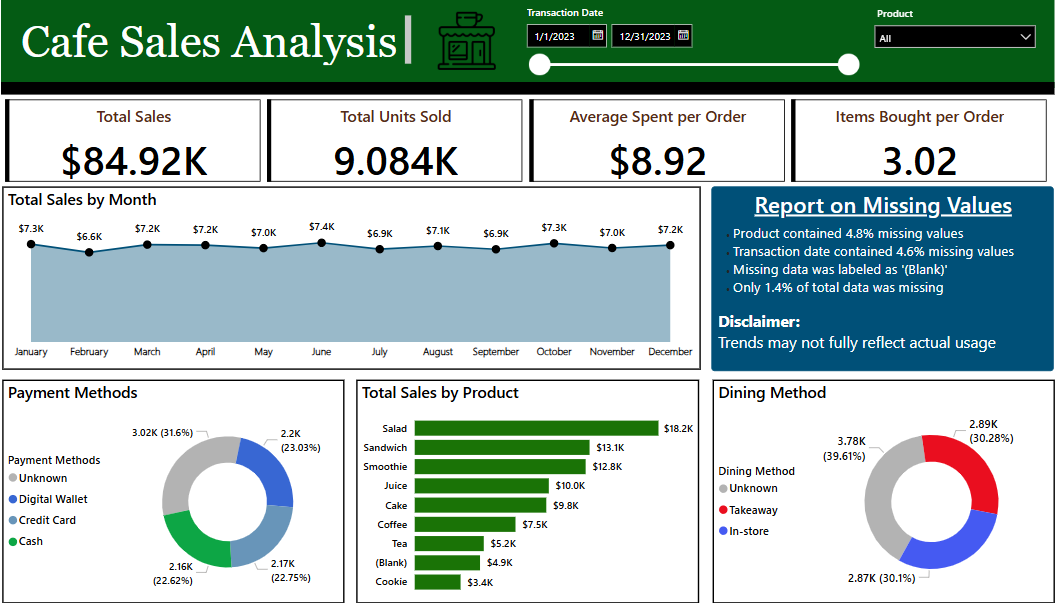

The page's visual inventory and layout, read from the dashboard file:
{"tool":"powerbi","page":{"name":"Page 1","canvas":[1280,720],"ordinal":0},"visuals":[{"type":"shape","box":[14.3,2.1,1254.3,105.7],"z":0},{"type":"textbox","box":[24.2,15.4,483.2,69.2],"z":1000},{"type":"cardVisual","fields":{"Data":["Sum(Sheet 1.total_spent)","CountNonNull(Sheet 1.Item)","Avg(Sheet 1.total_spent)","Avg(Sheet 1.Quantity)"]},"box":[14.3,115.3,1253.1,108.7],"z":2000},{"type":"actionButton","box":[0,0,100,40],"z":3000},{"type":"donutChart","title":"Payment Methods","fields":{"Y":["CountNonNull(Sheet 1.payment_method)"],"Category":["Sheet 1.payment_method"]},"box":[15.4,453.6,407.4,266.9],"z":4000},{"type":"clusteredBarChart","title":"Total Sales by Product","fields":{"Y":["Sum(Sheet 1.total_spent)"],"Category":["Sheet 1.Item"]},"box":[437.1,453.6,408.5,266.9],"z":5000},{"type":"donutChart","title":"Dining Method","fields":{"Category":["Sheet 1.Location"],"Y":["CountNonNull(Sheet 1.Location)"]},"box":[861,453.6,407.4,266.9],"z":6000},{"type":"areaChart","title":"Total Sales by Month","fields":{"Category":["Sheet 1.transaction_date.Variation.Date Hierarchy.Month"],"Y":["Sum(Sheet 1.total_spent)"]},"box":[15.4,224,831.4,218.5],"z":7000},{"type":"textbox","title":"Report on Missing Values","box":[859.9,224,407.4,219.6],"z":8000},{"type":"slicer","fields":{"Values":["Sheet 1.transaction_date"]},"box":[627.1,2.2,417.3,105.4],"z":10000},{"type":"image","box":[509.6,11,117.5,79.1],"z":11000},{"type":"shape","box":[14.3,99.9,1254.2,15.4],"z":12000},{"type":"slicer","fields":{"Values":["Sheet 1.Item"]},"box":[1044.4,4.4,212,95.5],"z":12001}]}

Visuals, with their boxes in screenshot pixels (x1, y1, x2, y2), scaled from the page's 1280x720 canvas onto the 1056x603 screenshot:
shape: left=12, top=2, right=1047, bottom=90
textbox: left=20, top=13, right=419, bottom=71
cardVisual - Sum(Sheet 1.total_spent) x CountNonNull(Sheet 1.Item): left=12, top=97, right=1046, bottom=188
actionButton: left=0, top=0, right=82, bottom=34
"Payment Methods" donutChart: left=13, top=380, right=349, bottom=602
"Total Sales by Product" clusteredBarChart: left=361, top=380, right=698, bottom=602
"Dining Method" donutChart: left=710, top=380, right=1046, bottom=602
"Total Sales by Month" areaChart: left=13, top=188, right=699, bottom=371
"Report on Missing Values" textbox: left=709, top=188, right=1046, bottom=372
slicer - Sheet 1.transaction_date: left=517, top=2, right=862, bottom=90
image: left=420, top=9, right=517, bottom=75
shape: left=12, top=84, right=1047, bottom=97
slicer - Sheet 1.Item: left=862, top=4, right=1037, bottom=84
